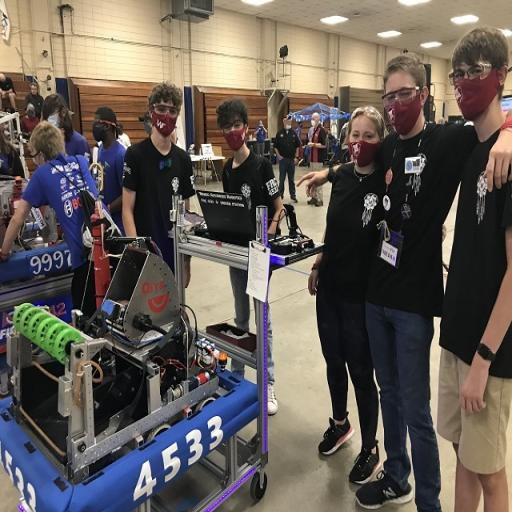robot: (12, 192, 263, 508), (0, 105, 106, 270)
